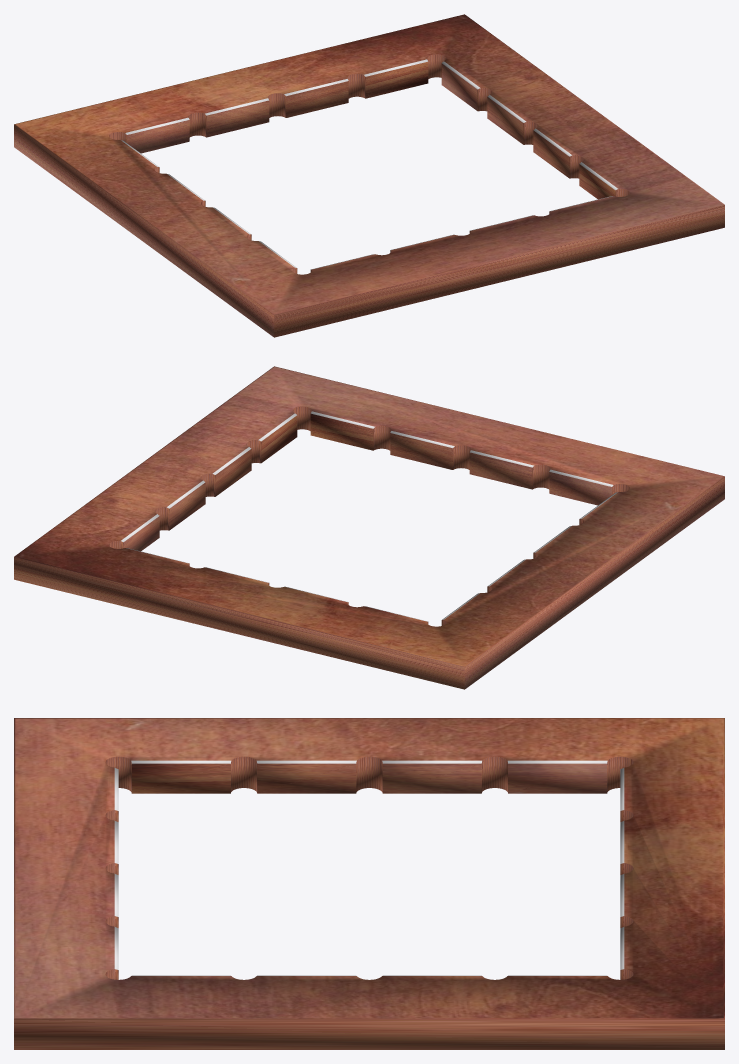
File: board-alquerque-external-frame.gltf
The picture shows the model from 3 angles, top to bottom: view 1: azimuth 30°, elevation 25°; view 2: azimuth 150°, elevation 25°; view 3: azimuth 270°, elevation 25°; orthographic projection. The views are drawn at different scales.
Size of the model in its own units: 11.34 by 0.5517 by 11.34.
2 materials, 1 textured.
